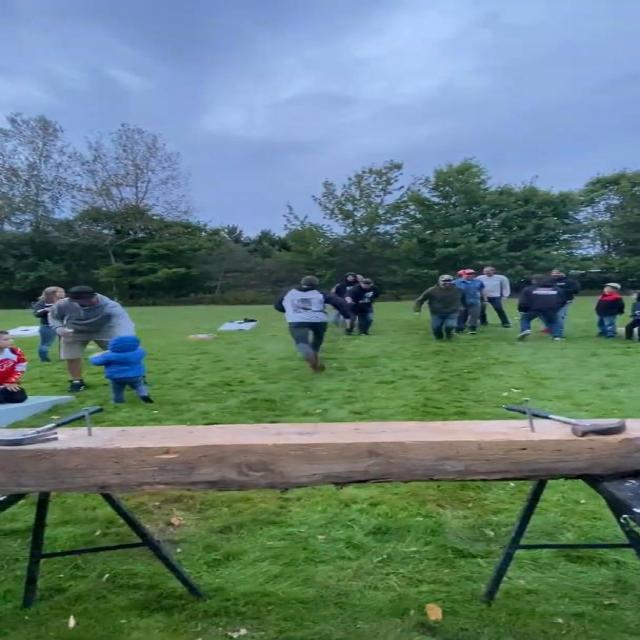hammer: (500, 400, 632, 439), (3, 406, 113, 447)
